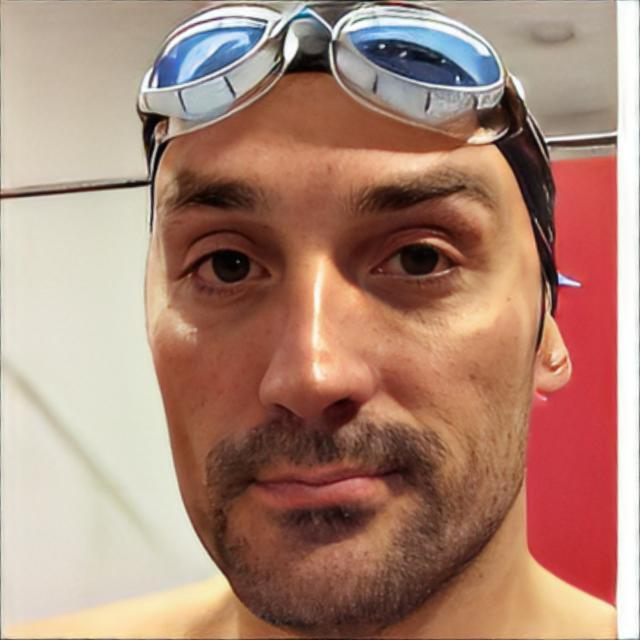content: (148, 69, 536, 632)
